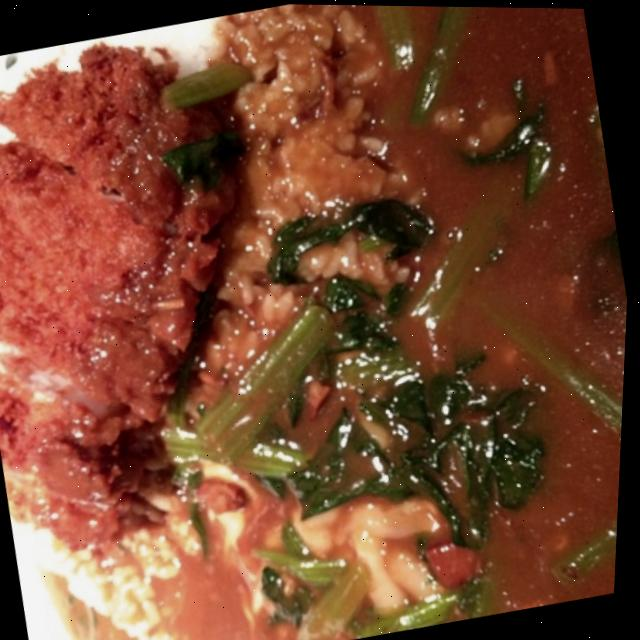鸡肉料理 含炸鸡: (0, 24, 321, 567)
